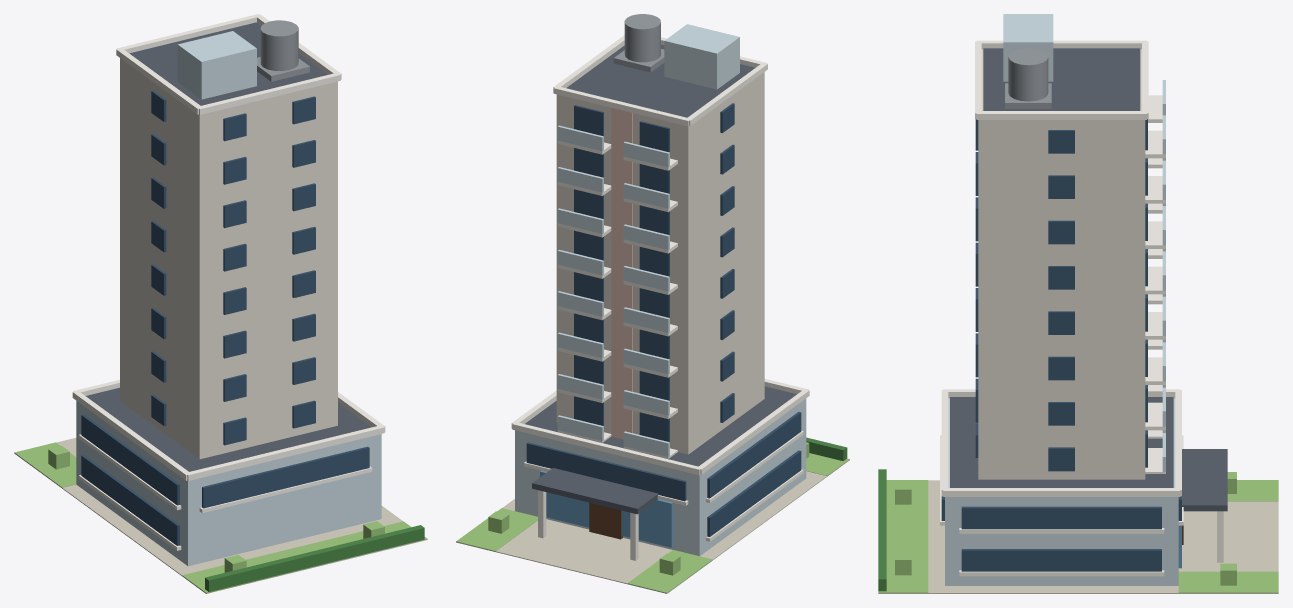
3 views of the same model, side by side, from view 1: azimuth 30°, elevation 25°; view 2: azimuth 150°, elevation 25°; view 3: azimuth 270°, elevation 25° (orthographic). The views are drawn at different scales.
Parts seen in each view (by area): view 1: tower, podium, window_glass (×16), window_band (×3), roof (×2), parapet (×5), plant_room, ground, hedge, lawn (×2), sill (×3), water_tank (+1 smaller); view 2: tower, balcony_wall (×16), window_glass (×16), podium, roof (×2), ground, window_band (×3), panel, parapet (×5), plant_room, lawn (×3), canopy (+6 smaller); view 3: tower, roof (×2), podium, ground, window_band (×2), lawn (×3), parapet (×6), window_glass (×8), canopy, sill (×2), plant_room, water_tank (+2 smaller).
Boxes of the visible parts, x1,y1,x2,y2 form: tower: [120, 58, 337, 459]; podium: [76, 401, 381, 566]; window_glass (×16): [223, 96, 315, 445]; window_band (×3): [81, 414, 369, 545]; roof (×2): [86, 22, 371, 471]; parapet (×5): [72, 14, 384, 480]; plant_room: [177, 31, 256, 99]; ground: [15, 438, 427, 593]; hedge: [205, 525, 424, 591]; lawn (×2): [14, 442, 427, 593]; sill (×3): [78, 434, 372, 550]; water_tank: [260, 20, 298, 71]; tower: [556, 72, 764, 454]; balcony_wall (×16): [557, 125, 669, 456]; window_glass (×16): [574, 105, 669, 442]; podium: [515, 398, 806, 556]; roof (×2): [525, 44, 796, 466]; ground: [456, 459, 849, 593]; window_band (×3): [526, 411, 801, 536]; panel: [611, 108, 632, 439]; parapet (×5): [512, 35, 809, 475]; plant_room: [664, 24, 739, 89]; lawn (×3): [456, 453, 849, 592]; canopy: [532, 468, 658, 514]; tower: [978, 49, 1145, 479]; roof (×2): [950, 48, 1173, 487]; podium: [945, 398, 1178, 585]; ground: [878, 480, 1278, 593]; window_band (×2): [961, 506, 1161, 571]; lawn (×3): [878, 480, 1278, 592]; parapet (×6): [941, 40, 1181, 496]; window_glass (×8): [1048, 130, 1074, 471]; canopy: [1182, 449, 1227, 511]; sill (×2): [959, 528, 1164, 576]; plant_room: [1003, 14, 1053, 81]; water_tank: [1008, 48, 1048, 101].
Bounding box in the file's own units: 16 × 32.97 × 24.
